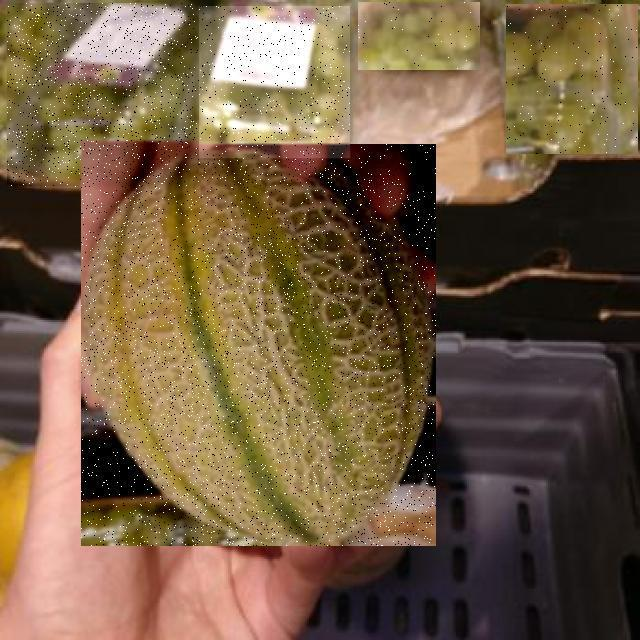Cantaloupe: (81, 144, 436, 546)
Grapes: (7, 4, 199, 188), (198, 6, 350, 158), (506, 4, 638, 154), (359, 2, 481, 70)
